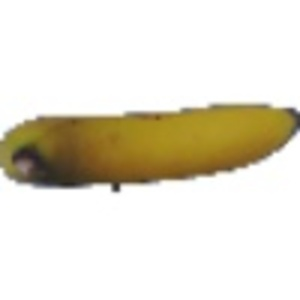banana: (1, 107, 297, 187)
